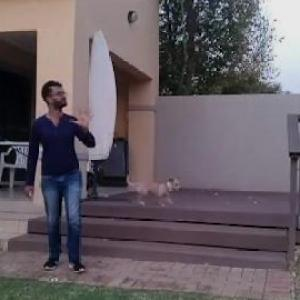follow_hand: (69, 100, 99, 131)
